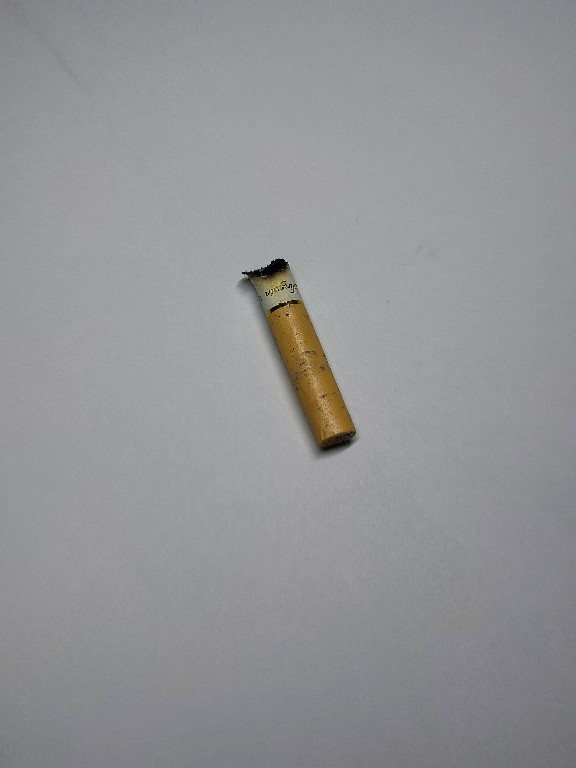cigarette: (235, 255, 360, 452)
